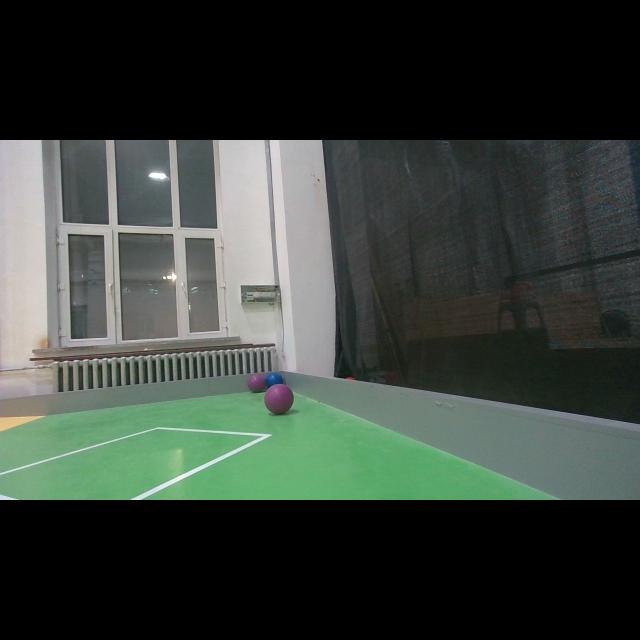B: (266, 372, 282, 388)
P: (264, 384, 294, 414), (247, 374, 265, 392)
